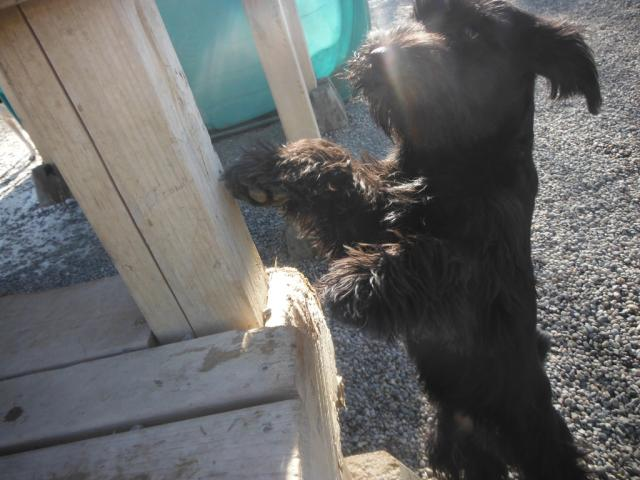Dog: (217, 0, 603, 480)
